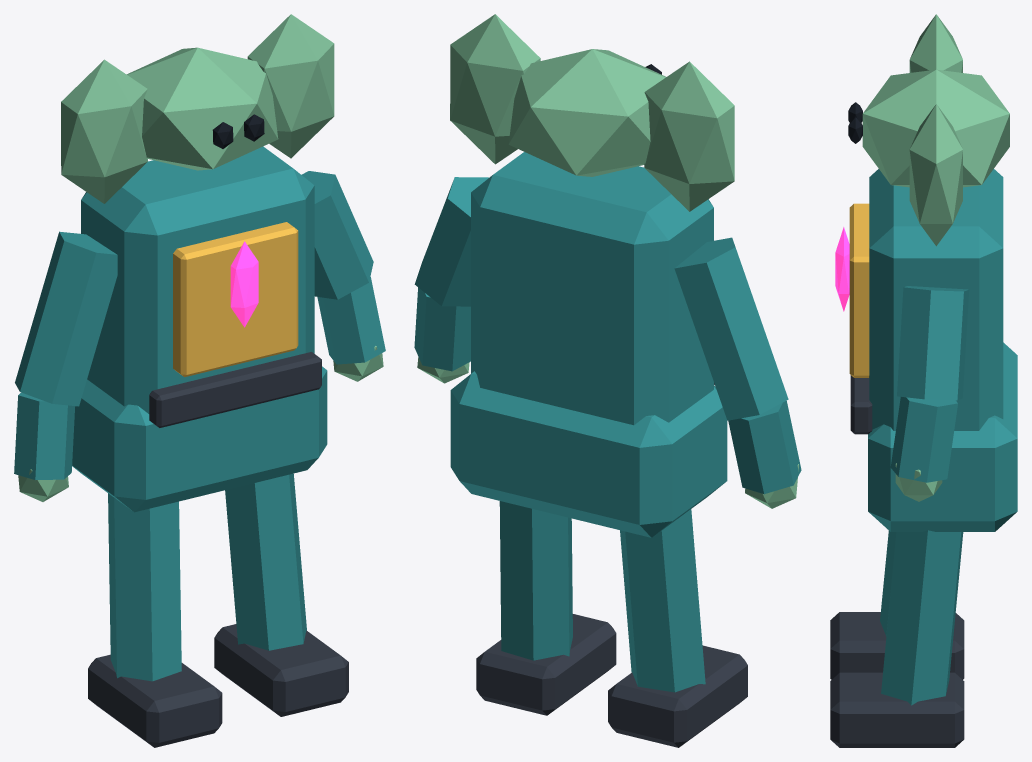
The model's file is npcs_011_seed78877.glb.
3 views of the same model, side by side, from view 1: azimuth 30°, elevation 25°; view 2: azimuth 150°, elevation 25°; view 3: azimuth 270°, elevation 25° (orthographic). The views are drawn at different scales.
Parts seen in each view (by area): view 1: npcs_011_seed78877; view 2: npcs_011_seed78877; view 3: npcs_011_seed78877.
Boxes of the visible parts, x1=… form: npcs_011_seed78877: x1=14, y1=14, x2=385, y2=747; npcs_011_seed78877: x1=414, y1=14, x2=801, y2=747; npcs_011_seed78877: x1=830, y1=14, x2=1017, y2=747.
Bounding box in the file's own units: 0.9553 × 1.64 × 0.4312.
